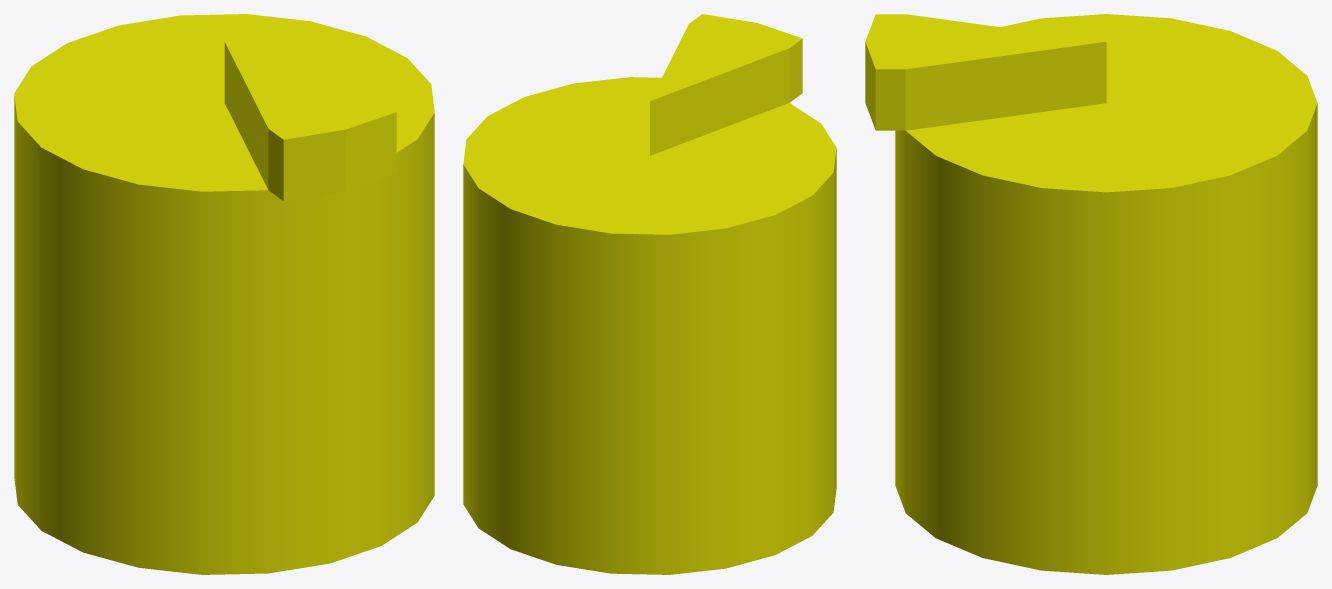
The model's file is TestPlayer2.fbx.
3 renders of one model, left to right at view 1: azimuth 30°, elevation 25°; view 2: azimuth 150°, elevation 25°; view 3: azimuth 270°, elevation 25°, orthographic. The views are drawn at different scales.
Visible parts, largest first — view 1: pCylinder1; view 2: pCylinder1; view 3: pCylinder1.
Part boxes in pixels (x1,y1,x2,y2): pCylinder1: [14, 14, 434, 574]; pCylinder1: [463, 14, 836, 574]; pCylinder1: [865, 14, 1317, 574].
Size of the model in its own units: 1 by 1.16 by 1.07.
